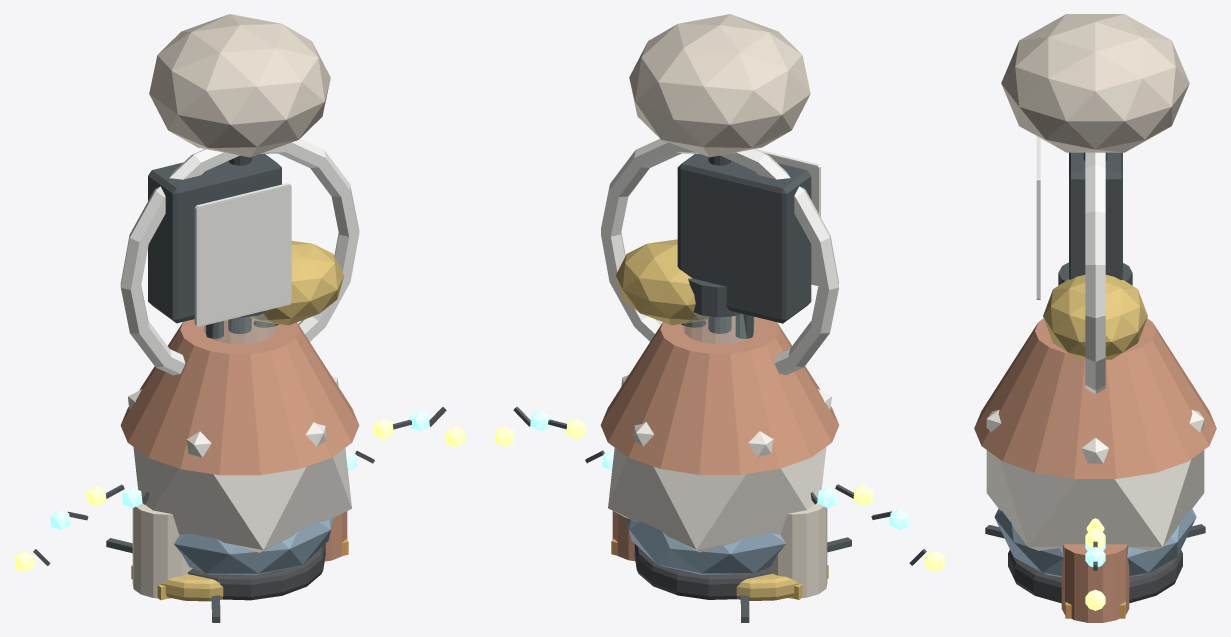
File: lighting.glb
3 views of the same model, side by side, from view 1: azimuth 30°, elevation 25°; view 2: azimuth 150°, elevation 25°; view 3: azimuth 270°, elevation 25° (orthographic).
Parts seen in each view (by area): view 1: HF_MushroomLamp, HF_Lamp_Floor, HF_SoftboxLight, HF_PaperLantern, HF_RingLight, HF_Lamp_Desk, HF_Lamp_Pendant, HF_CandleSet, HF_FairyLightString, HF_LavaLamp; view 2: HF_MushroomLamp, HF_Lamp_Floor, HF_SoftboxLight, HF_PaperLantern, HF_RingLight, HF_Lamp_Desk, HF_Lamp_Pendant, HF_CandleSet, HF_FairyLightString, HF_LavaLamp; view 3: HF_MushroomLamp, HF_Lamp_Floor, HF_PaperLantern, HF_SoftboxLight, HF_Lamp_Desk, HF_RingLight, HF_CandleSet, HF_Lamp_Pendant, HF_FairyLightString, HF_LavaLamp.
Part boxes in pixels (bbox=[...]): HF_MushroomLamp: bbox=[120, 319, 359, 475]; HF_Lamp_Floor: bbox=[149, 14, 330, 600]; HF_SoftboxLight: bbox=[106, 154, 291, 622]; HF_PaperLantern: bbox=[128, 375, 351, 552]; HF_RingLight: bbox=[120, 139, 359, 375]; HF_Lamp_Desk: bbox=[161, 241, 344, 601]; HF_Lamp_Pendant: bbox=[174, 518, 333, 575]; HF_CandleSet: bbox=[132, 503, 347, 598]; HF_FairyLightString: bbox=[14, 407, 465, 572]; HF_LavaLamp: bbox=[204, 310, 276, 344]; HF_MushroomLamp: bbox=[600, 316, 839, 474]; HF_Lamp_Floor: bbox=[629, 14, 810, 599]; HF_SoftboxLight: bbox=[677, 149, 851, 622]; HF_PaperLantern: bbox=[608, 375, 831, 552]; HF_RingLight: bbox=[601, 139, 838, 374]; HF_Lamp_Desk: bbox=[616, 239, 798, 600]; HF_Lamp_Pendant: bbox=[626, 517, 785, 574]; HF_CandleSet: bbox=[612, 503, 827, 598]; HF_FairyLightString: bbox=[494, 406, 945, 571]; HF_LavaLamp: bbox=[683, 278, 755, 343]; HF_MushroomLamp: bbox=[974, 318, 1216, 478]; HF_Lamp_Floor: bbox=[1001, 14, 1189, 603]; HF_PaperLantern: bbox=[986, 409, 1204, 550]; HF_SoftboxLight: bbox=[985, 136, 1205, 538]; HF_Lamp_Desk: bbox=[1043, 275, 1147, 359]; HF_RingLight: bbox=[1085, 152, 1105, 393]; HF_CandleSet: bbox=[1061, 518, 1129, 622]; HF_Lamp_Pendant: bbox=[994, 509, 1196, 577]; HF_FairyLightString: bbox=[1085, 528, 1105, 610]; HF_LavaLamp: bbox=[1058, 262, 1132, 285].
Size of the model in its own units: 1.56 by 1.8 by 0.72.
